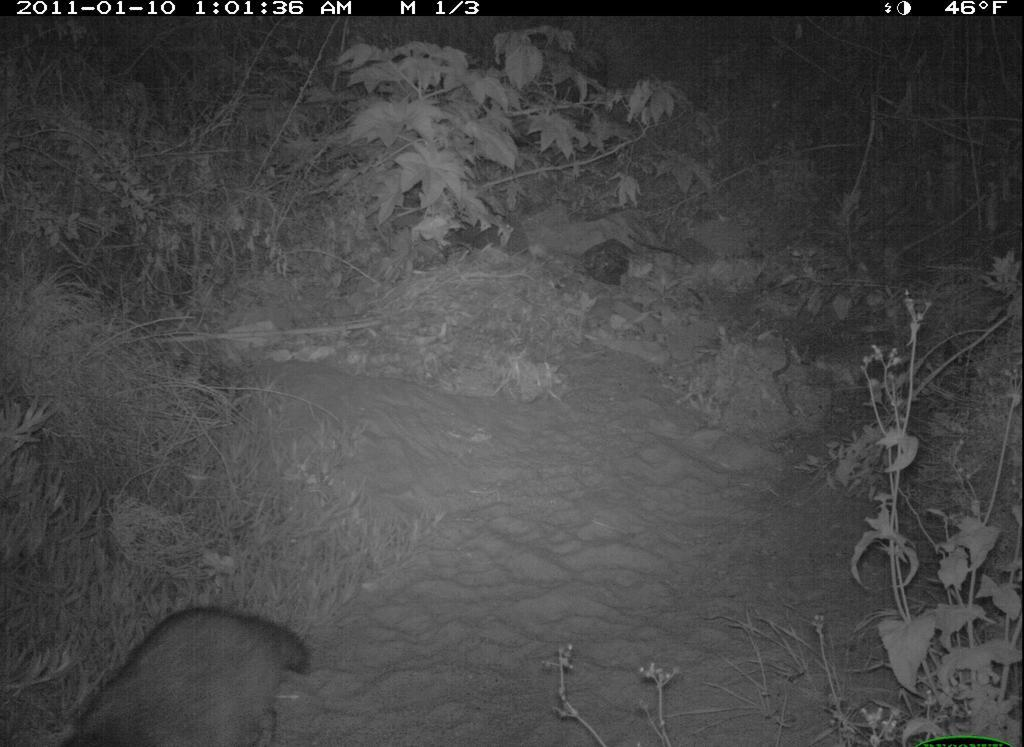raccoon: (48, 571, 335, 747)
